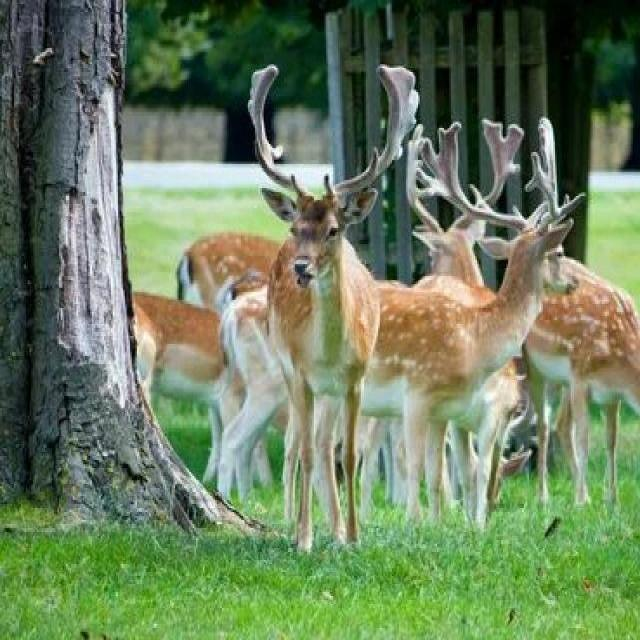deer: (165, 90, 428, 546), (298, 162, 548, 430), (492, 205, 640, 444)
